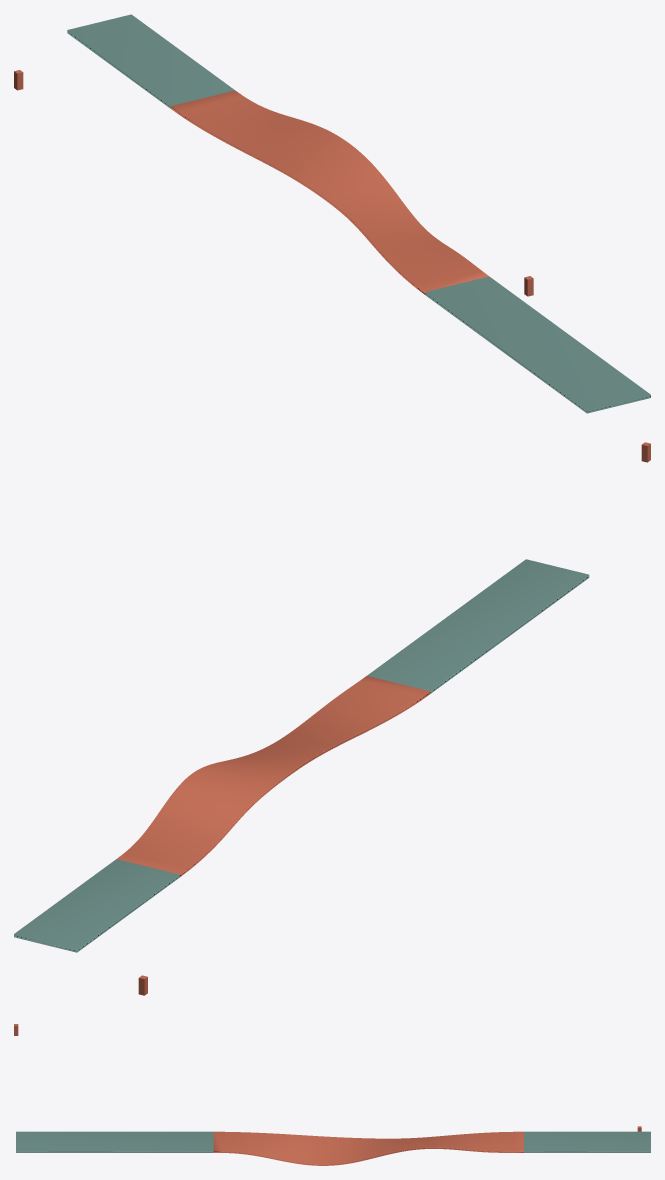
Rendered from ribbon-bridge-8132-boost.glb.
3 renders of one model, top to bottom at view 1: azimuth 30°, elevation 25°; view 2: azimuth 150°, elevation 25°; view 3: azimuth 270°, elevation 25°, orthographic. The views are drawn at different scales.
Visible parts, largest first — view 1: study-deck-render, runout-deck-render, approach-deck-render; view 2: study-deck-render, runout-deck-render, approach-deck-render; view 3: study-deck-render, runout-deck-render, approach-deck-render.
Boxes of the visible parts, box(x1,y1,x2,y2) form: study-deck-render: box(171, 90, 488, 294); runout-deck-render: box(425, 276, 650, 413); approach-deck-render: box(67, 14, 234, 108); study-deck-render: box(117, 676, 429, 877); runout-deck-render: box(367, 559, 589, 693); approach-deck-render: box(14, 859, 179, 952); study-deck-render: box(213, 1131, 523, 1165); runout-deck-render: box(16, 1131, 213, 1152); approach-deck-render: box(524, 1131, 650, 1152).
Size of what is drawn, in the model's own units: 73.6 by 88 by 452.
